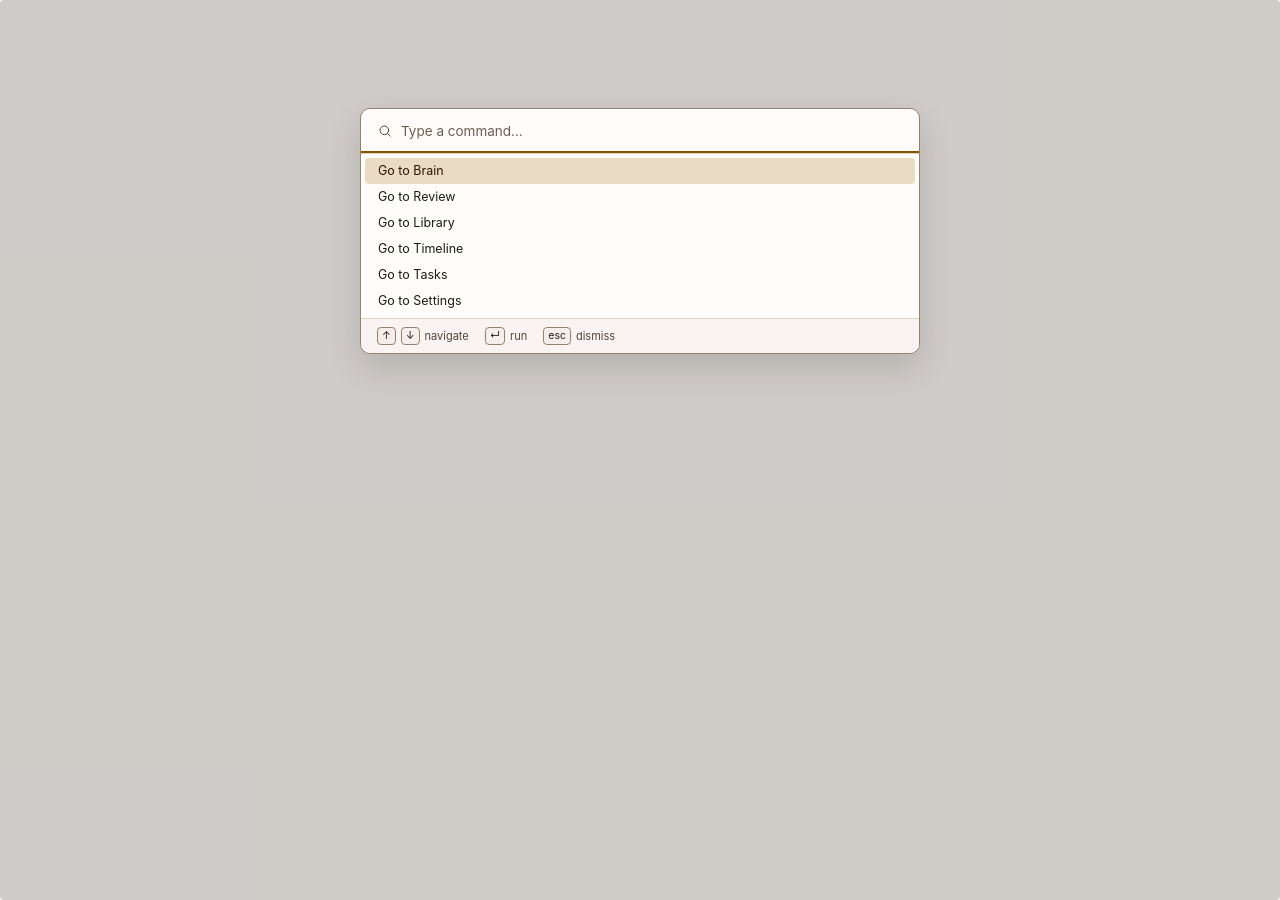
it: dynamic results are capped at 8 entities + 8 documents
In the dropdown named "Search commands": (652, 131) [401,109,903,153], type "alpha"
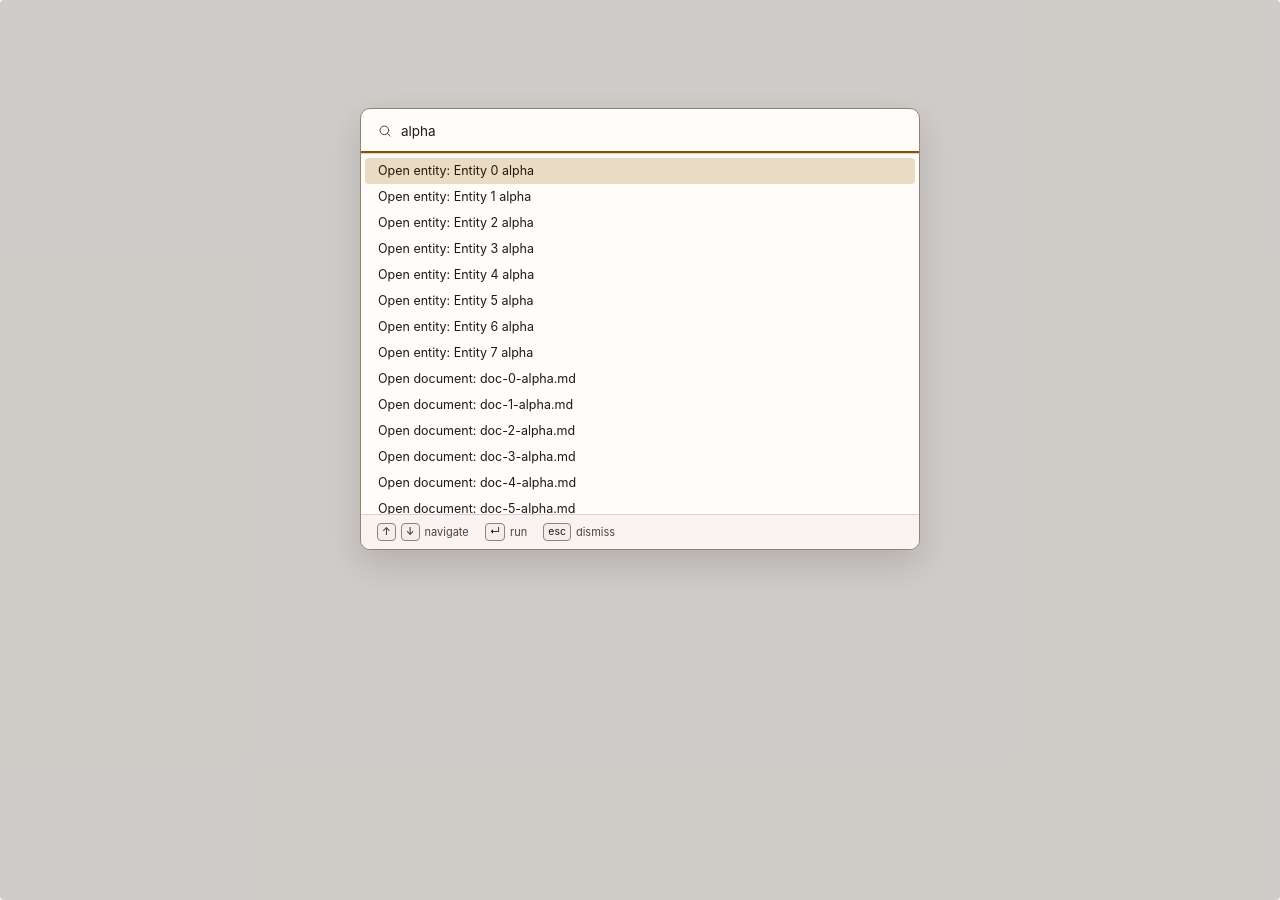
Expected: the number of options "Open entity: Entity 0 alpha" is 8
Expected: the number of options "Open document: doc-0-alpha.md" is 8
